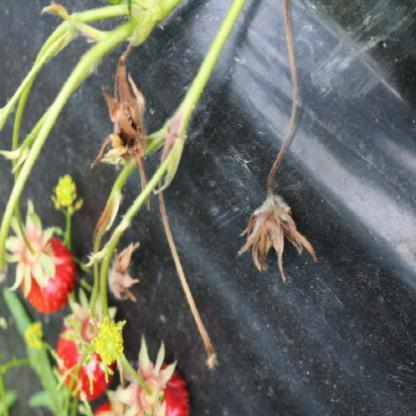Strawberry_Gray_Mold: (238, 192, 318, 283)
